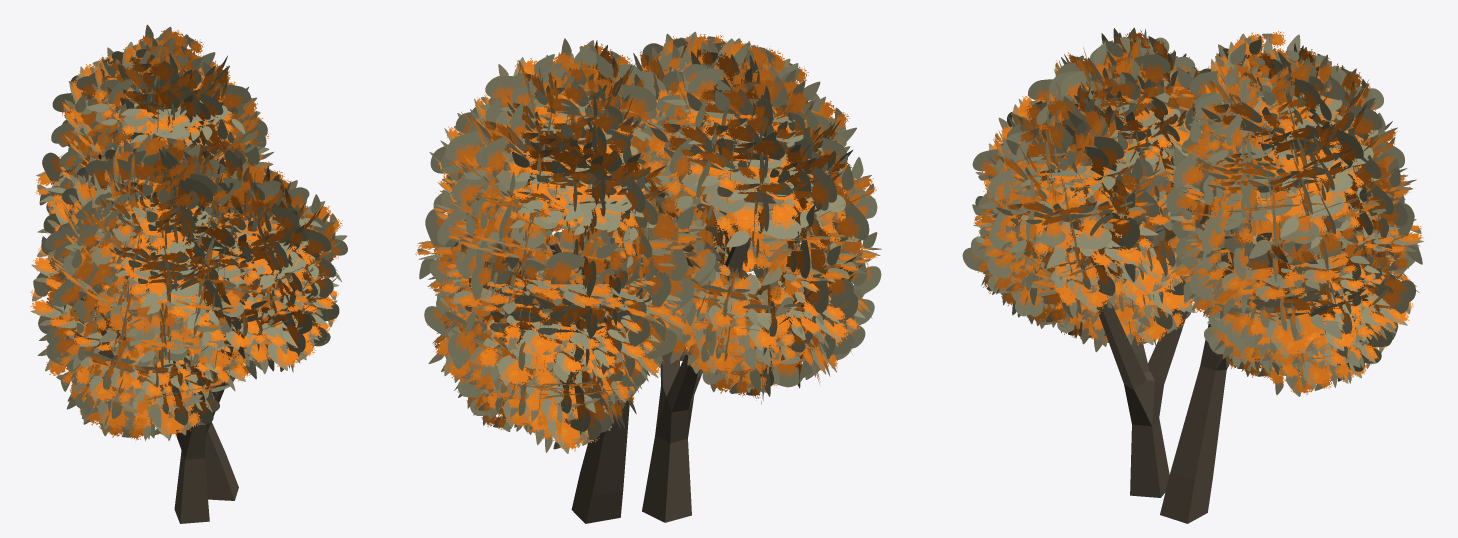
File: christTree.glb
3 renders of one model, left to right at view 1: azimuth 30°, elevation 25°; view 2: azimuth 150°, elevation 25°; view 3: azimuth 270°, elevation 25°, orthographic. The views are drawn at different scales.
Parts seen in each view (by area): view 1: ChirstTree, ChirstTree.log; view 2: ChirstTree, ChirstTree.log; view 3: ChirstTree, ChirstTree.log.
Boxes of the visible parts, x1,y1,x2,y2 form: ChirstTree: (30,24,347,440); ChirstTree.log: (98,154,238,523); ChirstTree: (415,31,881,453); ChirstTree.log: (548,230,751,523); ChirstTree: (962,27,1423,396); ChirstTree.log: (1098,277,1301,523).
Bounding box in the file's own units: 7.99 × 10.22 × 9.9.
2 materials, 1 textured.
